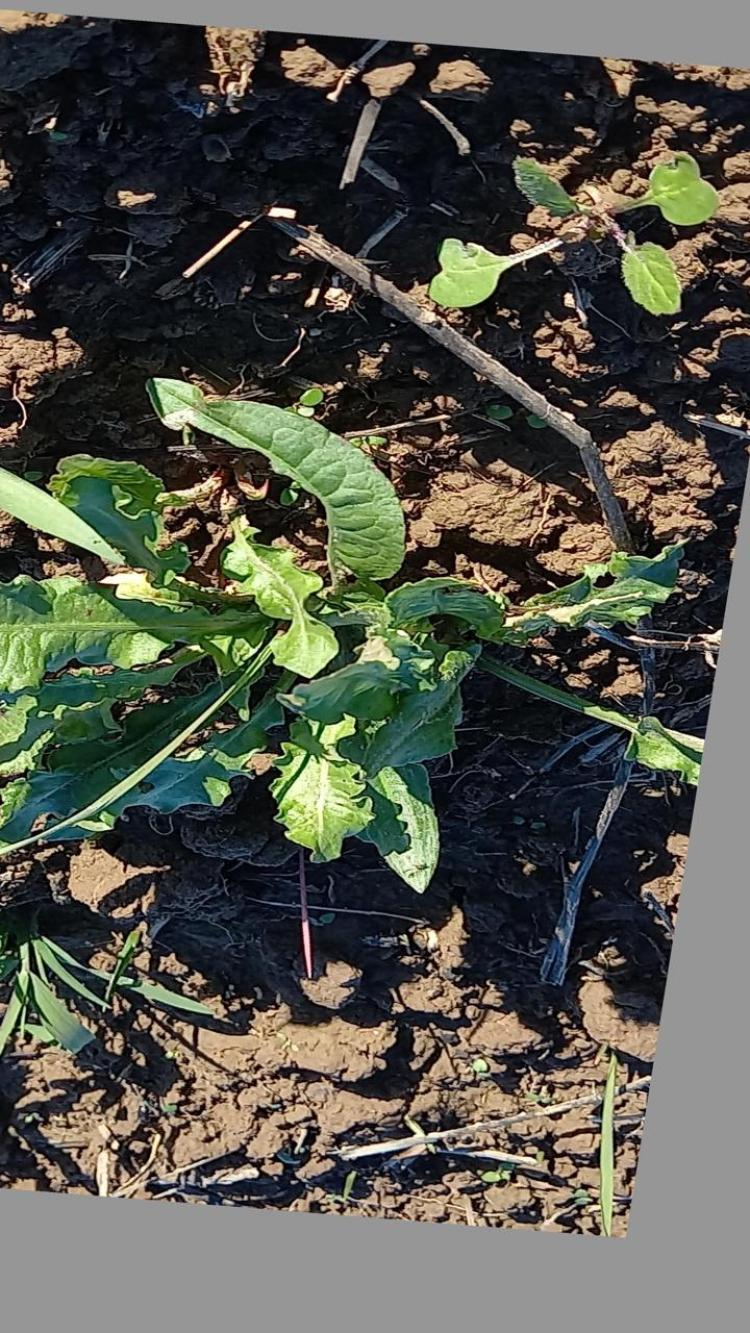zhavel: (0, 366, 719, 896)
